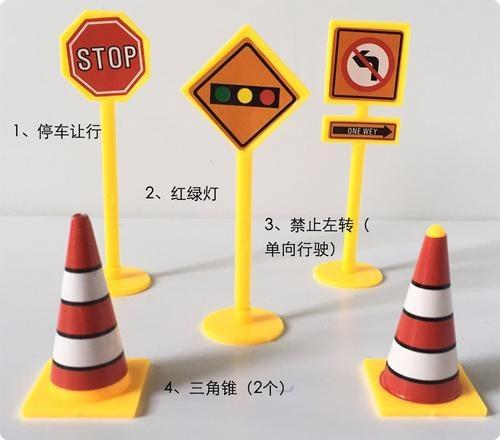cone_barrel: (32, 215, 135, 407), (375, 225, 475, 403)
